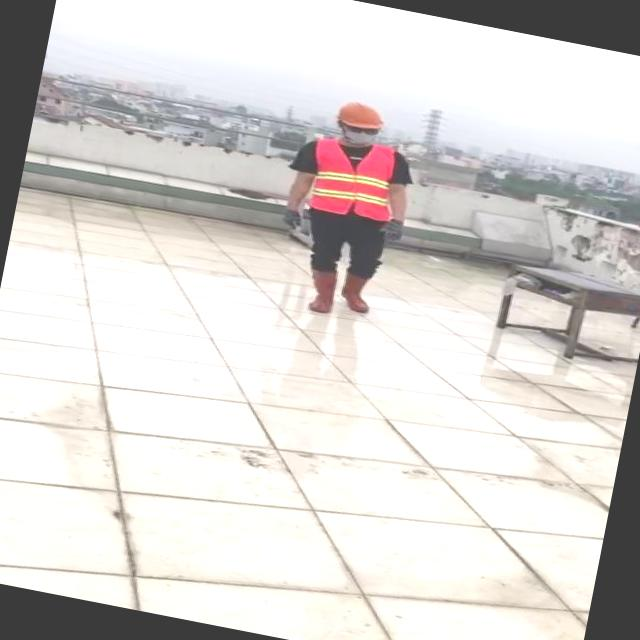boots: (300, 263, 344, 316), (334, 269, 380, 316)
gloves: (379, 214, 408, 246), (282, 205, 304, 230)
helmet: (328, 96, 392, 136)
vest: (305, 132, 402, 225)
